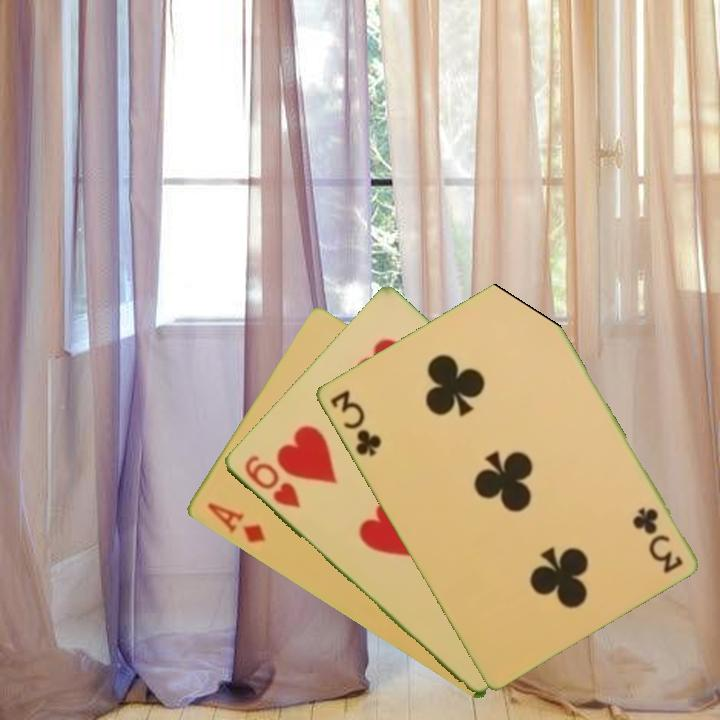3c: (326, 386, 384, 460), (630, 503, 686, 576)
6h: (240, 451, 303, 512)
Ad: (203, 499, 268, 546)
